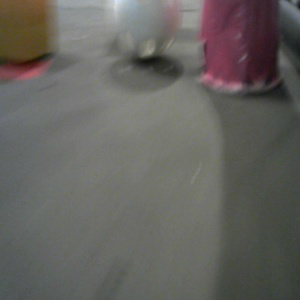right: (200, 1, 282, 94)
